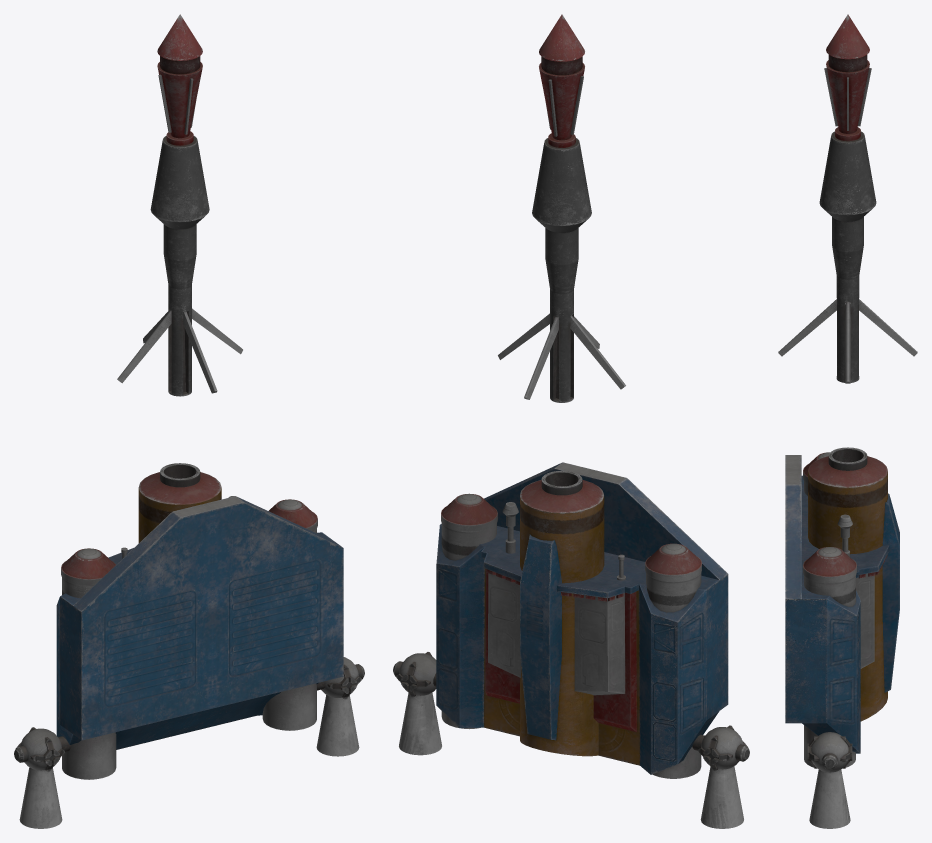
3 renders of one model, left to right at view 1: azimuth 30°, elevation 25°; view 2: azimuth 150°, elevation 25°; view 3: azimuth 270°, elevation 25°, orthographic. The views are drawn at different scales.
Parts seen in each view (by area): view 1: Jetpack.002, Cube.002; view 2: Jetpack.002, Cube.002; view 3: Jetpack.002, Cube.002.
Part boxes in pixels (<box>): Jetpack.002: <box>14,463,364,828</box>; Cube.002: <box>117,14,242,558</box>; Jetpack.002: <box>393,462,749,828</box>; Cube.002: <box>498,14,625,740</box>; Jetpack.002: <box>785,447,889,828</box>; Cube.002: <box>778,14,917,692</box>.
Bounding box in the file's own units: 764 × 1612 × 277.
Materials: 1 (1 with a texture image).
